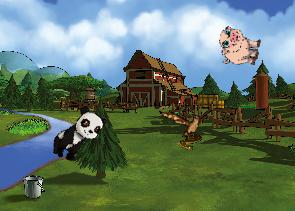eagle: (159, 100, 212, 145)
panda: (46, 102, 109, 168)
pig: (215, 24, 263, 69)
